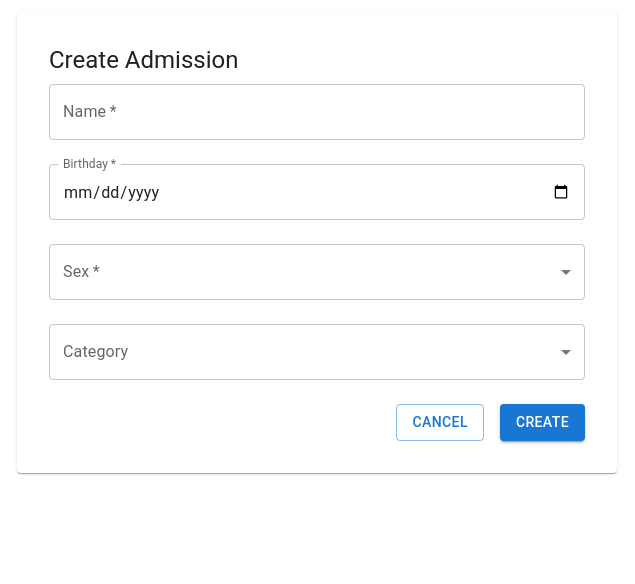
Test case: AdmissionForm › shows error for empty name
Click the button with test id "submit-button".
click(542, 423)  # box top-left (500, 404), bottom-right (585, 441)
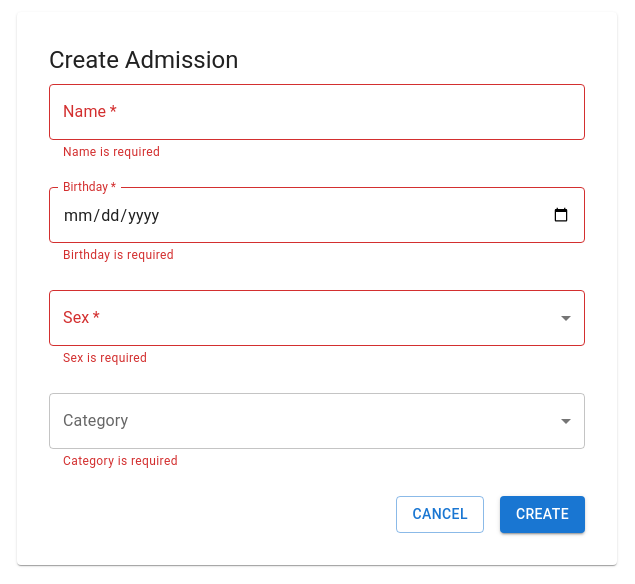
Expected: the text "Name is required" is shown, top-left (63, 145), bottom-right (160, 159)
